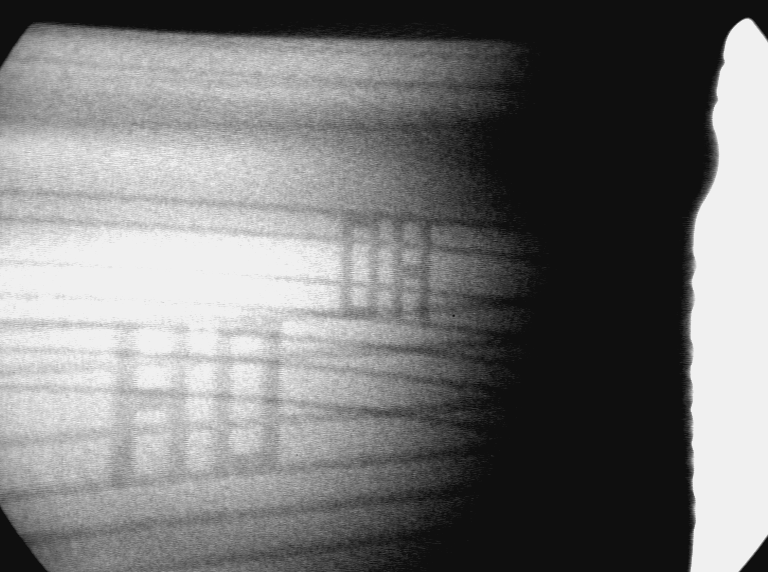defect: (103, 313, 283, 491)
